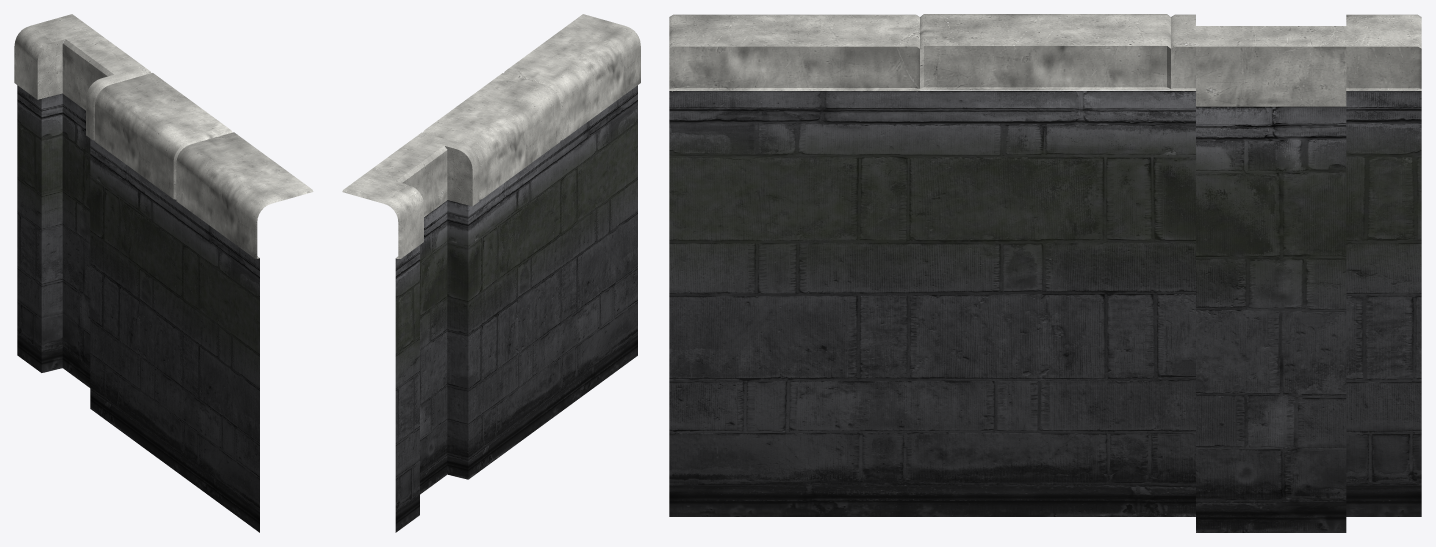
File: SM_Banchina_Mod4m_Nicchia.fbx
The picture shows the model from 3 angles, left to right: view 1: azimuth 30°, elevation 25°; view 2: azimuth 150°, elevation 25°; view 3: azimuth 270°, elevation 25°; orthographic projection. The views are drawn at different scales.
Visible parts, largest first — view 1: SM_Banchina_Mod4m_Nicchia; view 2: SM_Banchina_Mod4m_Nicchia; view 3: SM_Banchina_Mod4m_Nicchia.
Boxes of the visible parts, x1,y1,x2,y2 form: SM_Banchina_Mod4m_Nicchia: (14, 14, 313, 532); SM_Banchina_Mod4m_Nicchia: (342, 14, 640, 532); SM_Banchina_Mod4m_Nicchia: (669, 14, 1421, 532).
Size of what is drawn, in the model's own units: 55.34 by 400 by 300.
2 materials, 2 textured.
